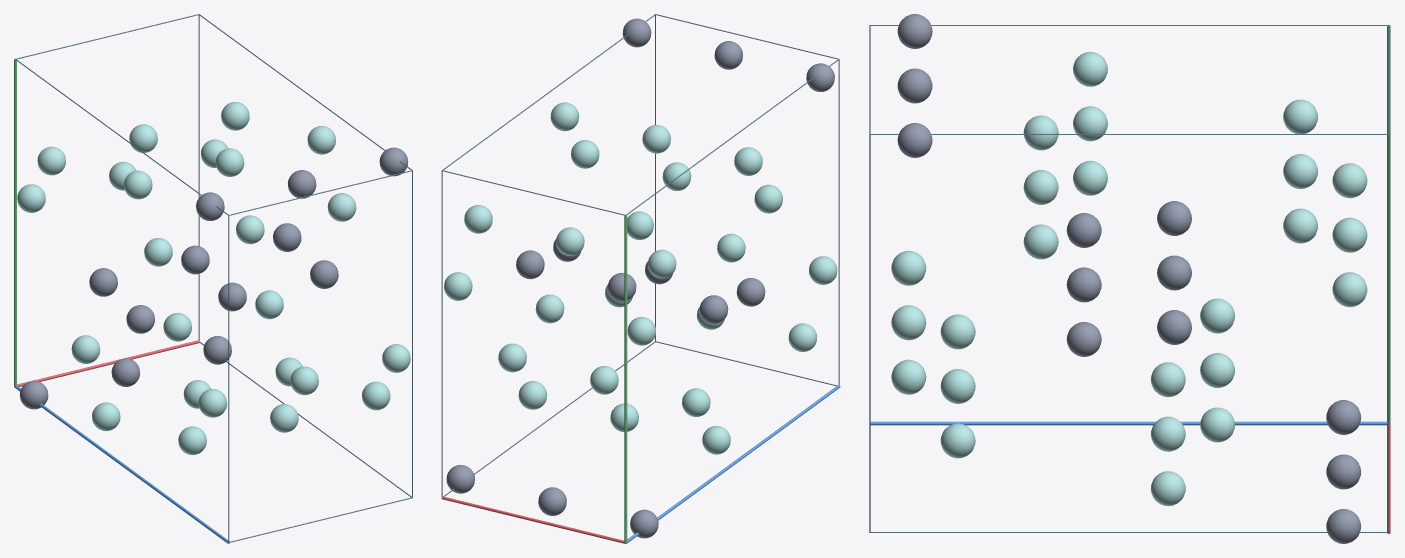
The model's file is chat-lead-bromide.glb.
3 views of the same model, side by side, from view 1: azimuth 30°, elevation 25°; view 2: azimuth 150°, elevation 25°; view 3: azimuth 270°, elevation 25° (orthographic). The views are drawn at different scales.
Visible parts, largest first — view 1: Br2 · Br · 1 (×12), Pb1 · Pb · 1 (×12), Br1 · Br · 1 (×12), Ô mạng và các trục a, b, c; view 2: Br1 · Br · 1 (×12), Br2 · Br · 1 (×10), Pb1 · Pb · 1 (×10), Ô mạng và các trục a, b, c; view 3: Pb1 · Pb · 1 (×12), Br1 · Br · 1 (×12), Br2 · Br · 1 (×12), Ô mạng và các trục a, b, c.
Part boxes in pixels (box(x1,y1,x2,y2)): Br2 · Br · 1 (×12): box(37, 102, 390, 454); Pb1 · Pb · 1 (×12): box(19, 147, 408, 409); Br1 · Br · 1 (×12): box(17, 126, 410, 431); Ô mạng và các trục a, b, c: box(14, 14, 412, 543); Br1 · Br · 1 (×12): box(444, 102, 837, 454); Br2 · Br · 1 (×10): box(464, 140, 817, 416); Pb1 · Pb · 1 (×10): box(446, 18, 834, 538); Ô mạng và các trục a, b, c: box(441, 14, 840, 543); Pb1 · Pb · 1 (×12): box(897, 14, 1361, 543); Br1 · Br · 1 (×12): box(891, 51, 1367, 506); Br2 · Br · 1 (×12): box(940, 99, 1317, 458); Ô mạng và các trục a, b, c: box(869, 24, 1390, 533).
Size of the model in its own units: 5.35 by 8.42 by 9.53.
